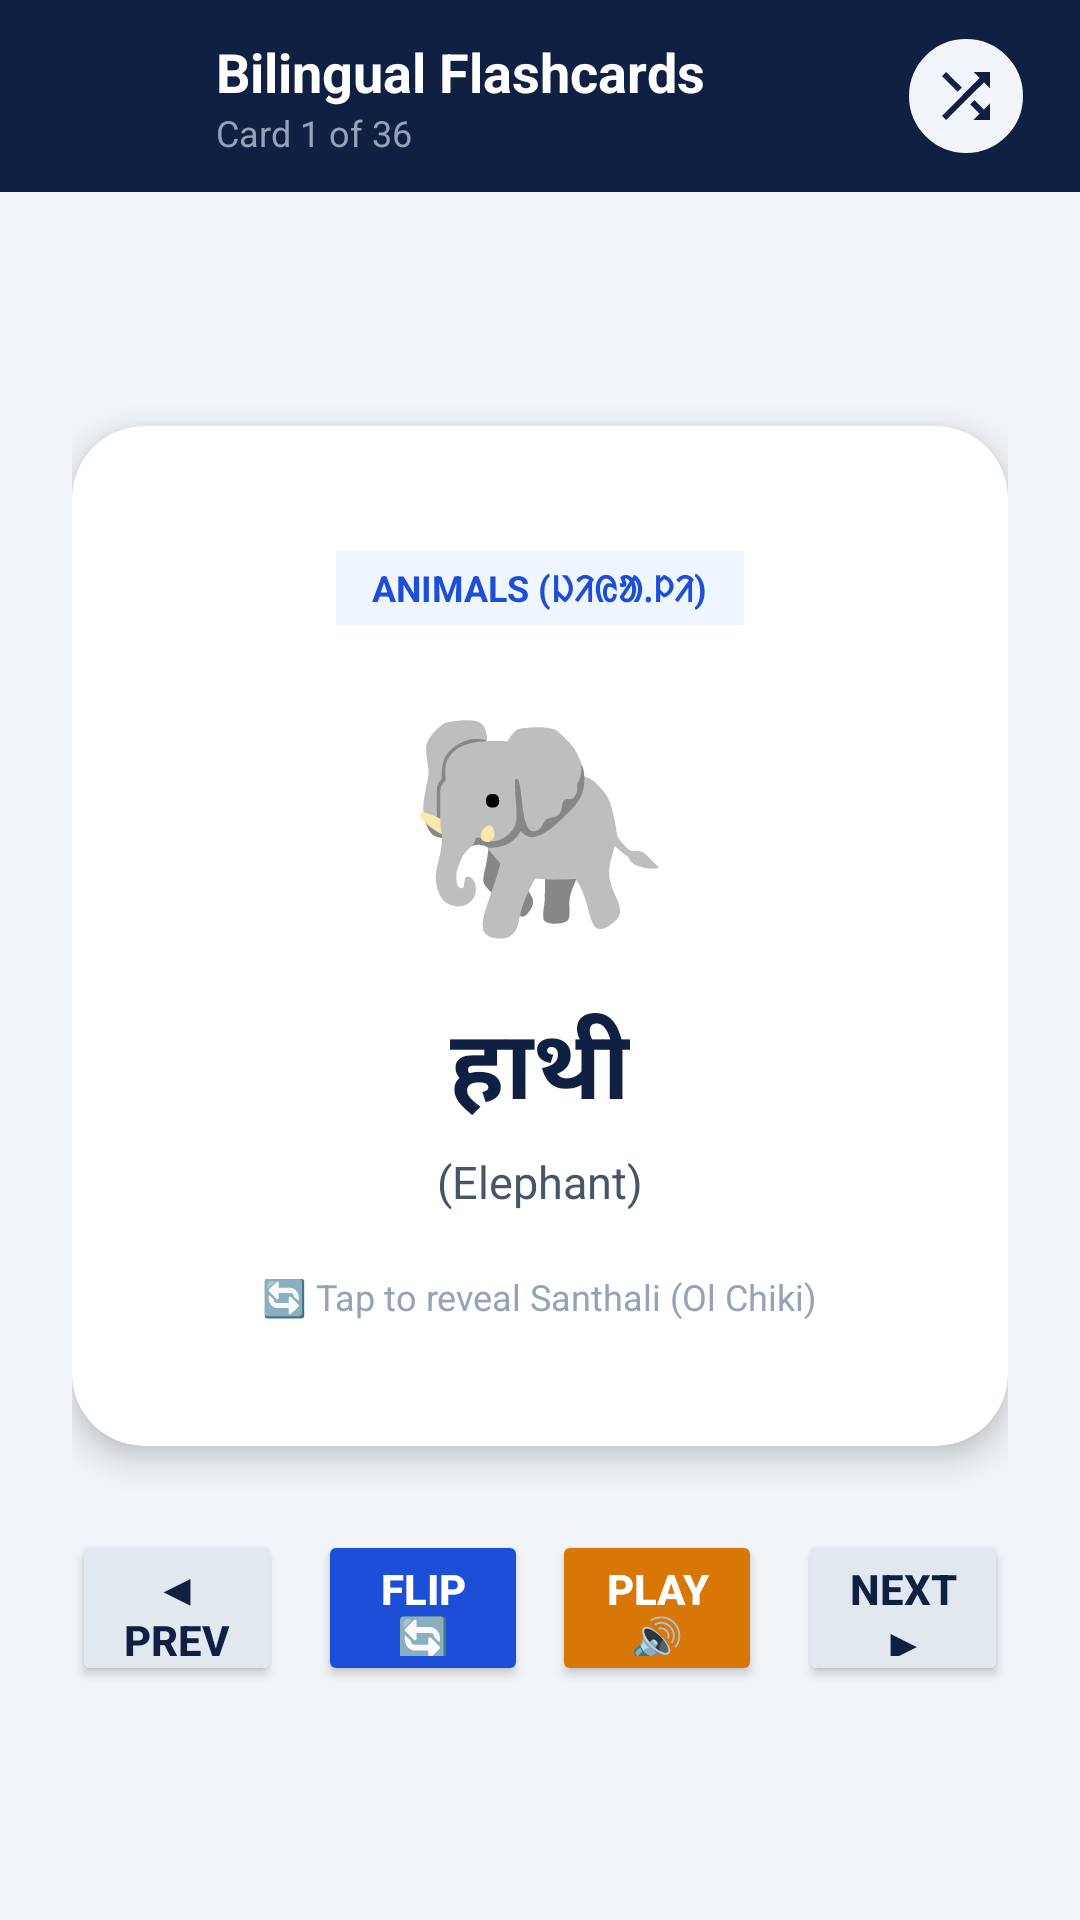

Screen size 1080w x 1920h. Icon name, then its center in pixels as (x,y):
Shuffle Cards: (966,96)
